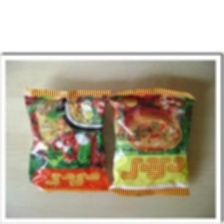snack: (101, 82, 201, 202), (18, 83, 116, 199)
